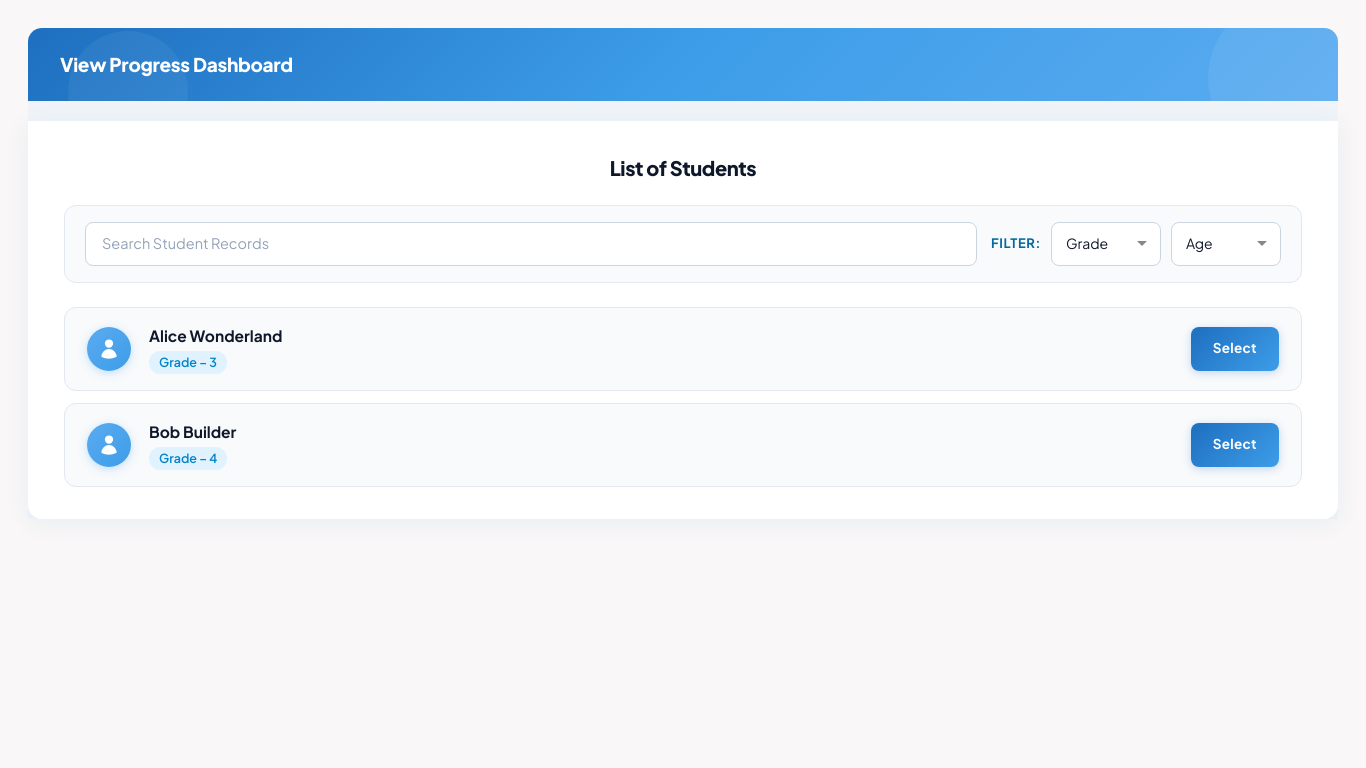
Test: ViewProgressDashboard › shows empty state when student has no progress records
Check: the text "Alice Wonderland" is shown, box [149,326,282,344]
What coordinates should you click on to do the following:
click the button "Select" in the row of "Alice Wonderland"
I would click on:
 (1235, 348)
Its box is [1191,326,1279,370].
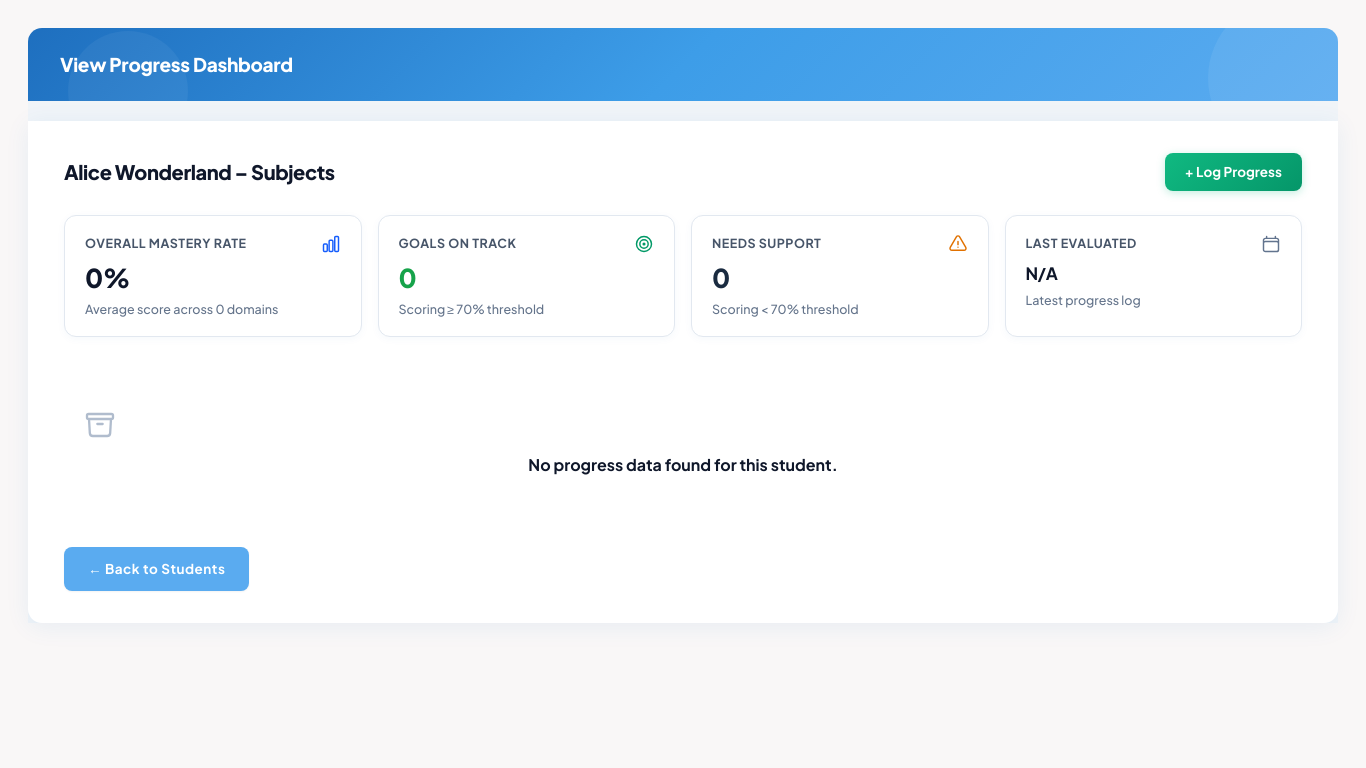
Check: the text "No progress data found for this student." is shown, box [528,454,838,475]
